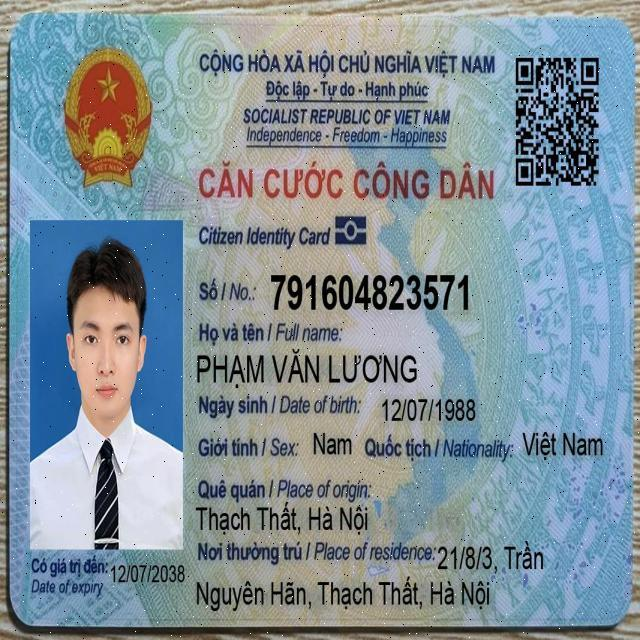current_place: (194, 573, 492, 615), (435, 538, 546, 576)
dob: (380, 394, 478, 426)
expire_date: (109, 561, 187, 586)
gender: (312, 428, 354, 461)
id: (268, 268, 472, 317)
name: (194, 344, 419, 392)
nationality: (520, 427, 605, 463)
origin_place: (193, 498, 370, 539)
qr: (510, 52, 602, 191)
